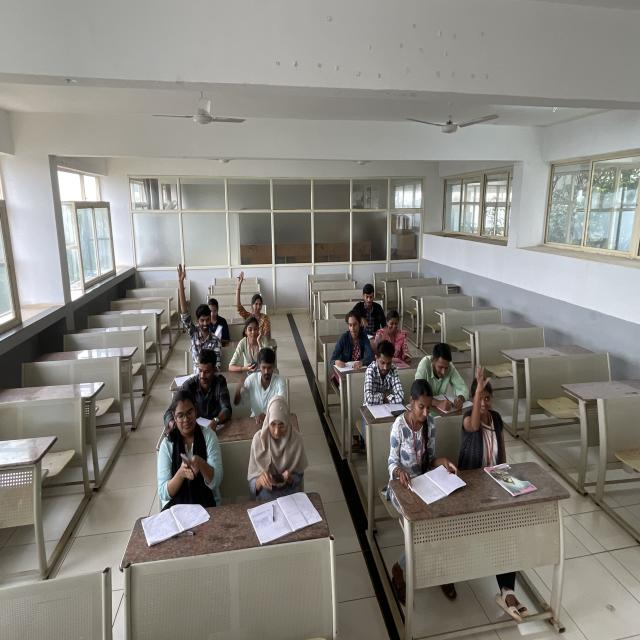Hand Rising: (462, 364, 507, 458), (176, 262, 220, 354), (233, 269, 272, 336)
Reading: (398, 378, 445, 497), (190, 344, 232, 438), (368, 341, 406, 415)
Using Phone: (248, 392, 306, 492), (168, 390, 218, 488), (233, 314, 272, 376)
Writing: (419, 342, 474, 414)
